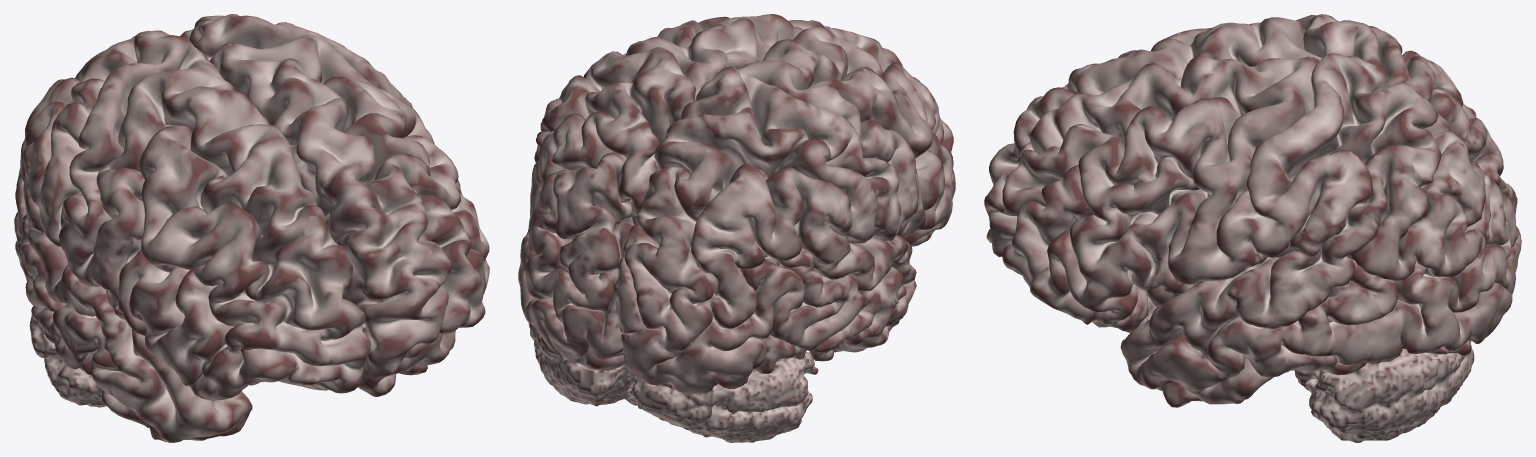
Rendered from cortex.glb.
3 views of the same model, side by side, from view 1: azimuth 30°, elevation 25°; view 2: azimuth 150°, elevation 25°; view 3: azimuth 270°, elevation 25° (orthographic). The views are drawn at different scales.
Visible parts, largest first — view 1: cortex, cerebellum; view 2: cortex, cerebellum; view 3: cortex, cerebellum.
Part boxes in pixels (bbox=[...]): cortex: bbox=[14, 14, 489, 442]; cerebellum: bbox=[29, 313, 260, 407]; cortex: bbox=[518, 14, 955, 394]; cerebellum: bbox=[528, 323, 818, 442]; cortex: bbox=[984, 14, 1521, 407]; cerebellum: bbox=[1294, 342, 1474, 442].
Size of the model in its own units: 1.24 by 1.23 by 1.65.
